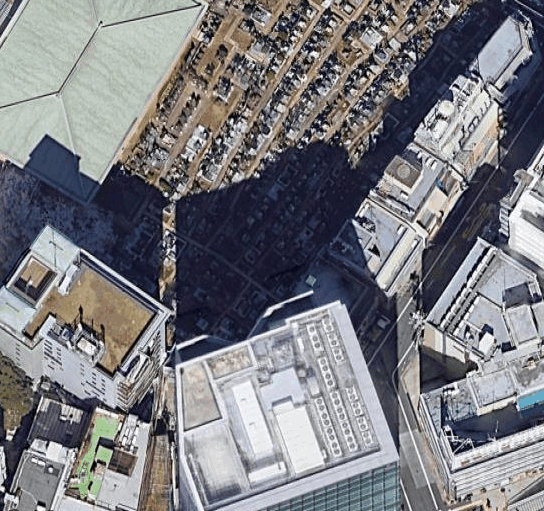facility: (169, 303, 384, 507), (417, 233, 542, 366), (418, 74, 501, 164)
flatroof: (0, 228, 181, 399), (64, 406, 128, 503), (467, 14, 535, 88), (5, 445, 66, 509)
rooftop: (413, 355, 541, 466), (322, 195, 410, 285), (370, 141, 458, 231)
